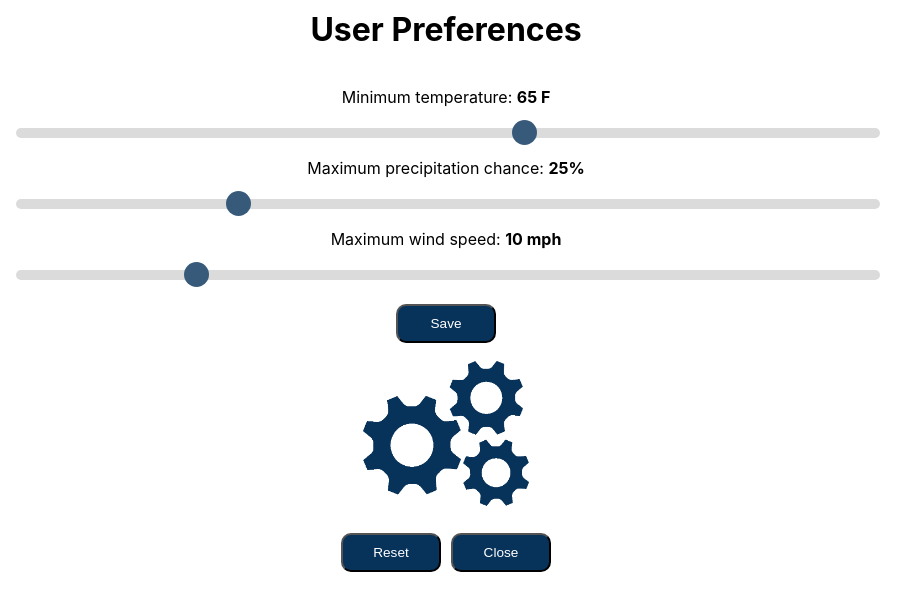
Scenario: <UserPreferences /> › resets UI
Set the slider named "set minimum temperature" to "20" at (178, 133), box [16,128,880,138]
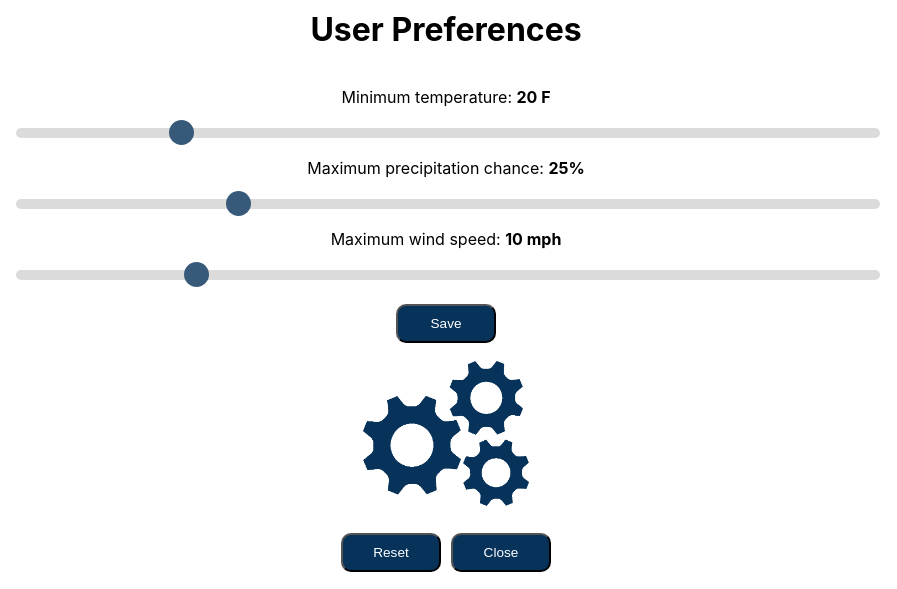
Set the slider named "set maximum chance of rain" to "50" at (448, 204), box [16,199,880,209]
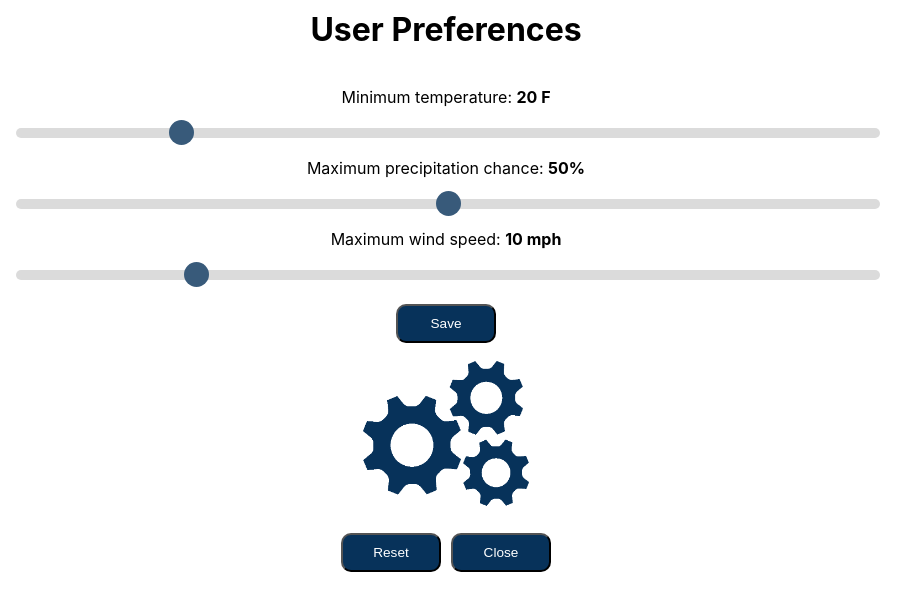
Set the slider named "set maximum wind speed" to "5" at (109, 275), box [16,270,880,280]
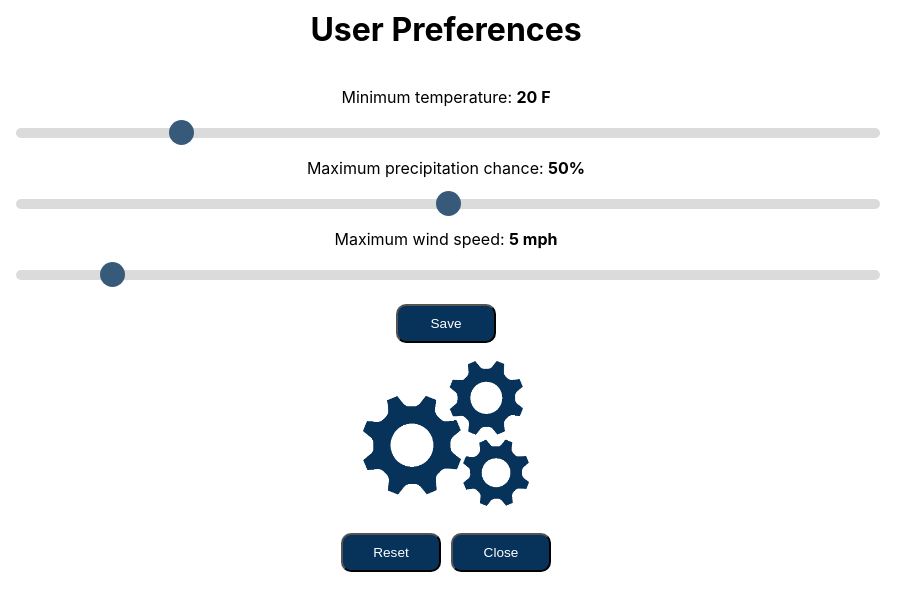
Click the button "Reset".
click(391, 552)  # box [341,533,441,572]
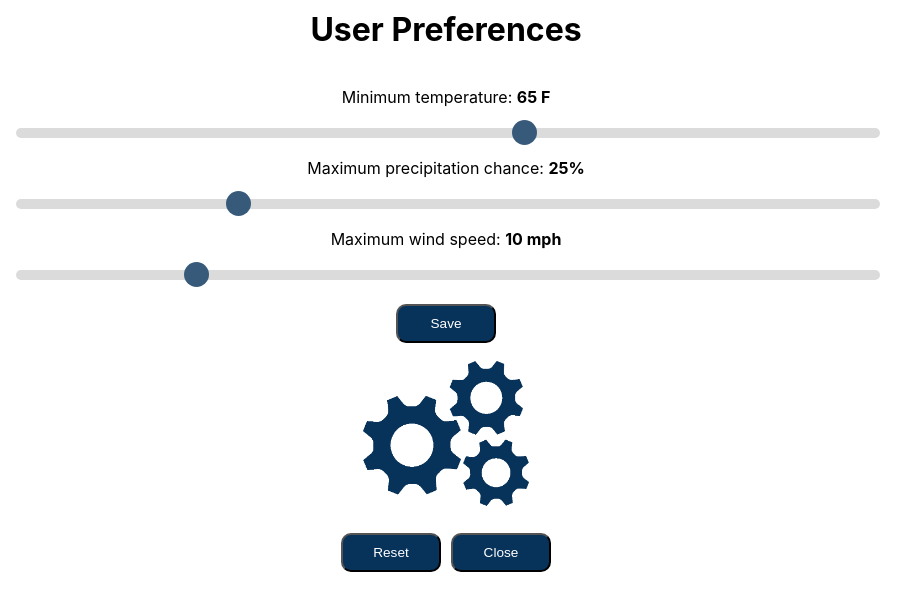
Now the text "65 F" is shown, box [517,87,550,107]
Now the text "25%" is shown, box [548,158,585,178]
Now the text "10 mph" is shown, box [505,229,561,249]
